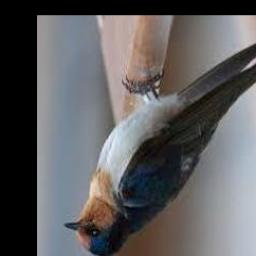Swallow: (63, 21, 256, 256)
